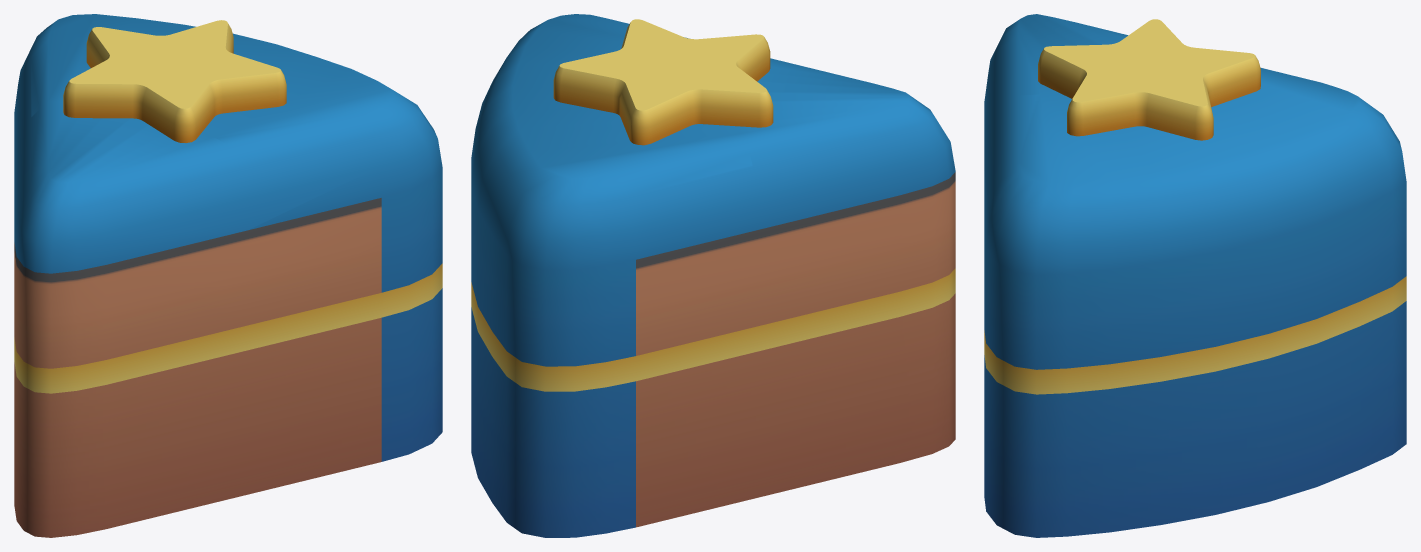
The model's file is cake11_slice.FBX.
3 views of the same model, side by side, from view 1: azimuth 30°, elevation 25°; view 2: azimuth 150°, elevation 25°; view 3: azimuth 270°, elevation 25° (orthographic).
Visible parts, largest first — view 1: cake11_slice; view 2: cake11_slice; view 3: cake11_slice.
Part boxes in pixels (x1,y1,x2,y2): cake11_slice: (14,14,442,537); cake11_slice: (471,14,955,537); cake11_slice: (984,14,1406,537).
Size of the model in its own units: 0.00904 by 0.00761 by 0.00788.
